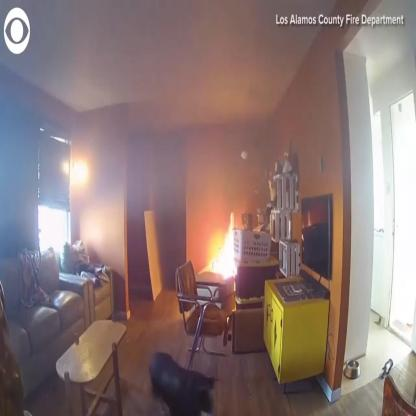fire: (208, 202, 238, 279)
